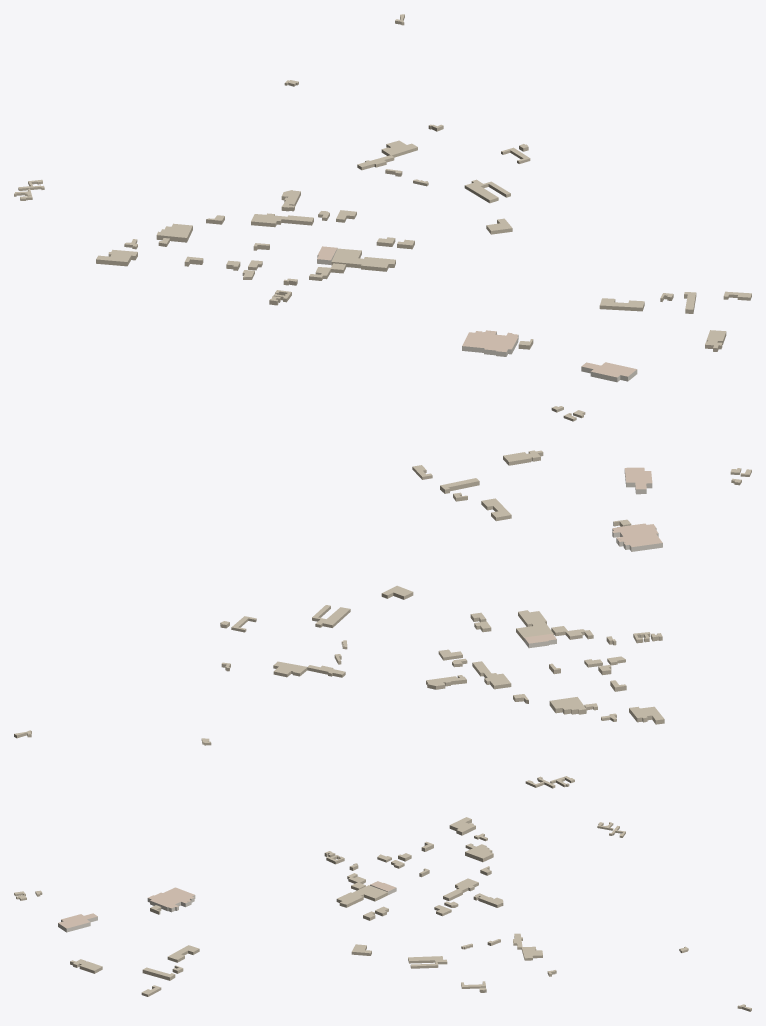
3 views of the same model, one above another, from view 1: azimuth 30°, elevation 25°; view 2: azimuth 150°, elevation 25°; view 3: azimuth 270°, elevation 25° (orthographic). The views are drawn at different scales.
Size of the model in its own units: 1315 by 23.08 by 2161.
